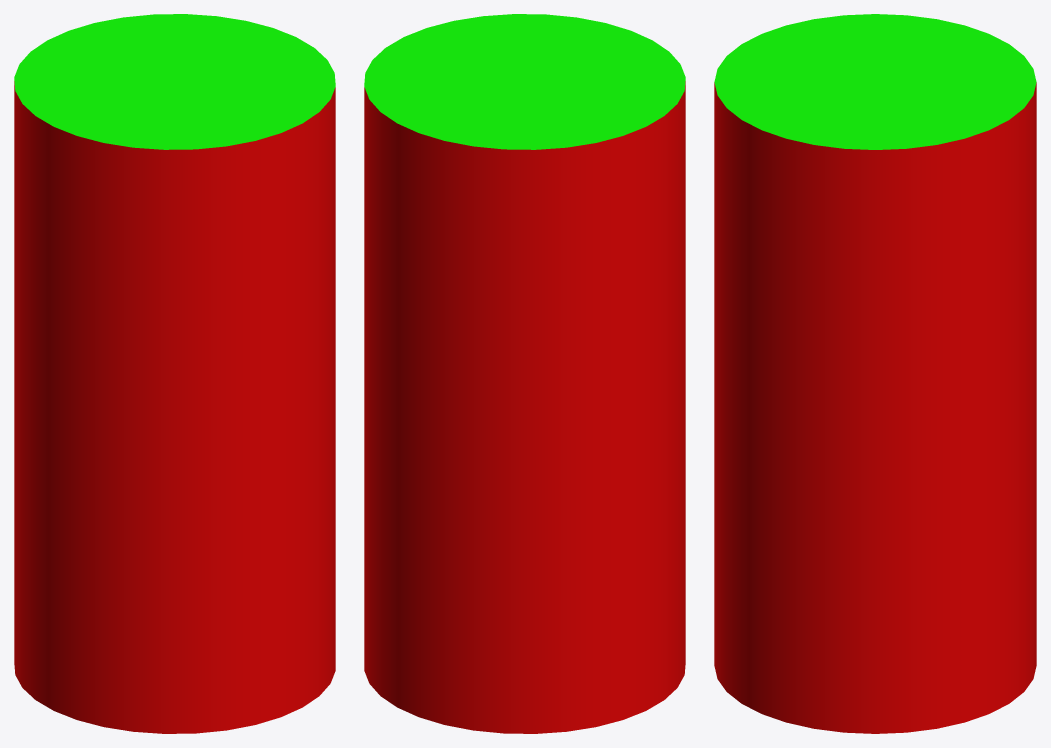
Rendered from Dungeon_RoundColumnBig.fbx.
3 views of the same model, side by side, from view 1: azimuth 30°, elevation 25°; view 2: azimuth 150°, elevation 25°; view 3: azimuth 270°, elevation 25° (orthographic).
Parts seen in each view (by area): view 1: ColumnRound_Big; view 2: ColumnRound_Big; view 3: ColumnRound_Big.
Part boxes in pixels (x1,y1,x2,y2): ColumnRound_Big: [14, 14, 335, 733]; ColumnRound_Big: [364, 14, 685, 733]; ColumnRound_Big: [714, 14, 1036, 733].
Bounding box in the file's own units: 250 × 500 × 250.
